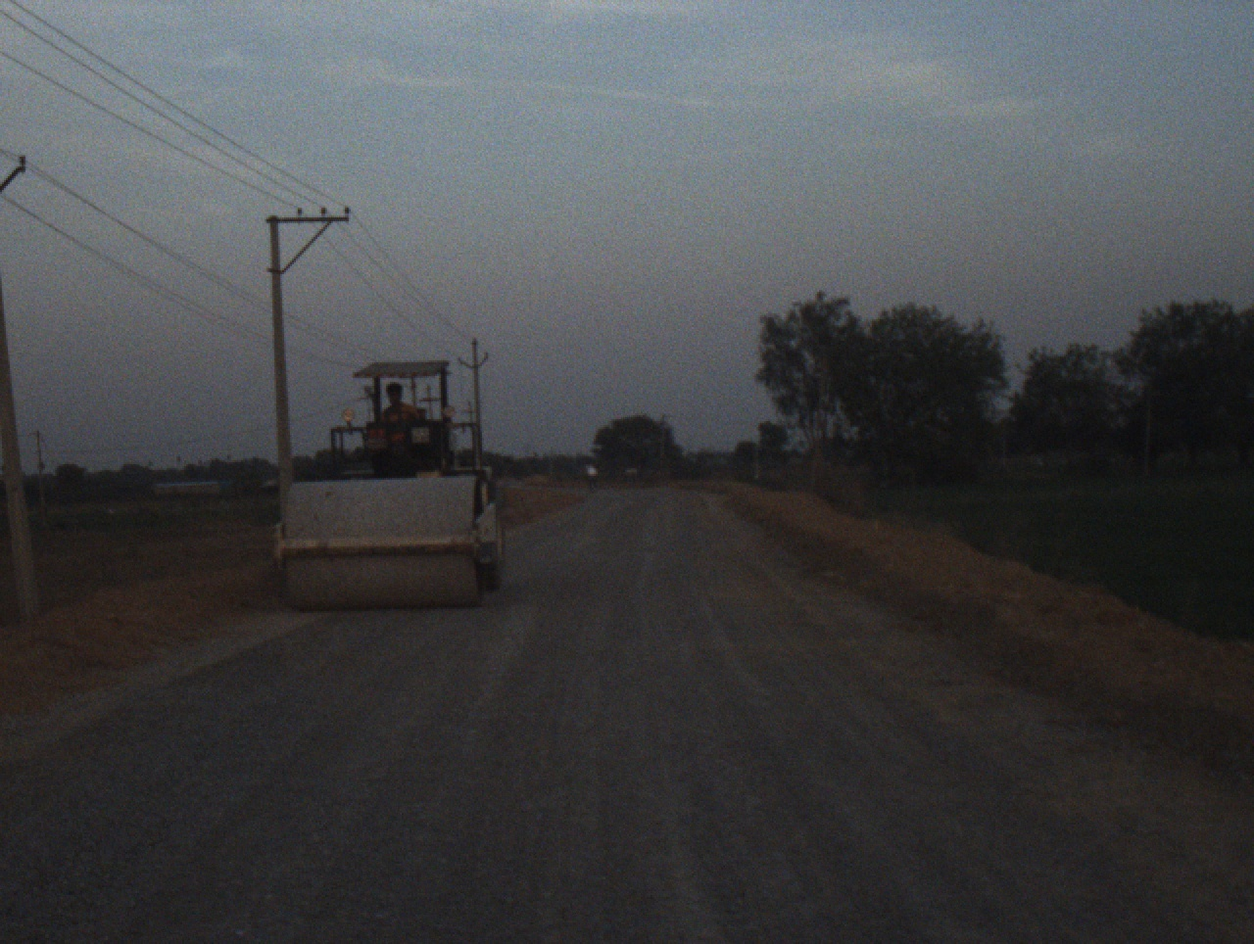rider: (375, 385, 416, 442)
vehicle fallback: (254, 344, 508, 611)
